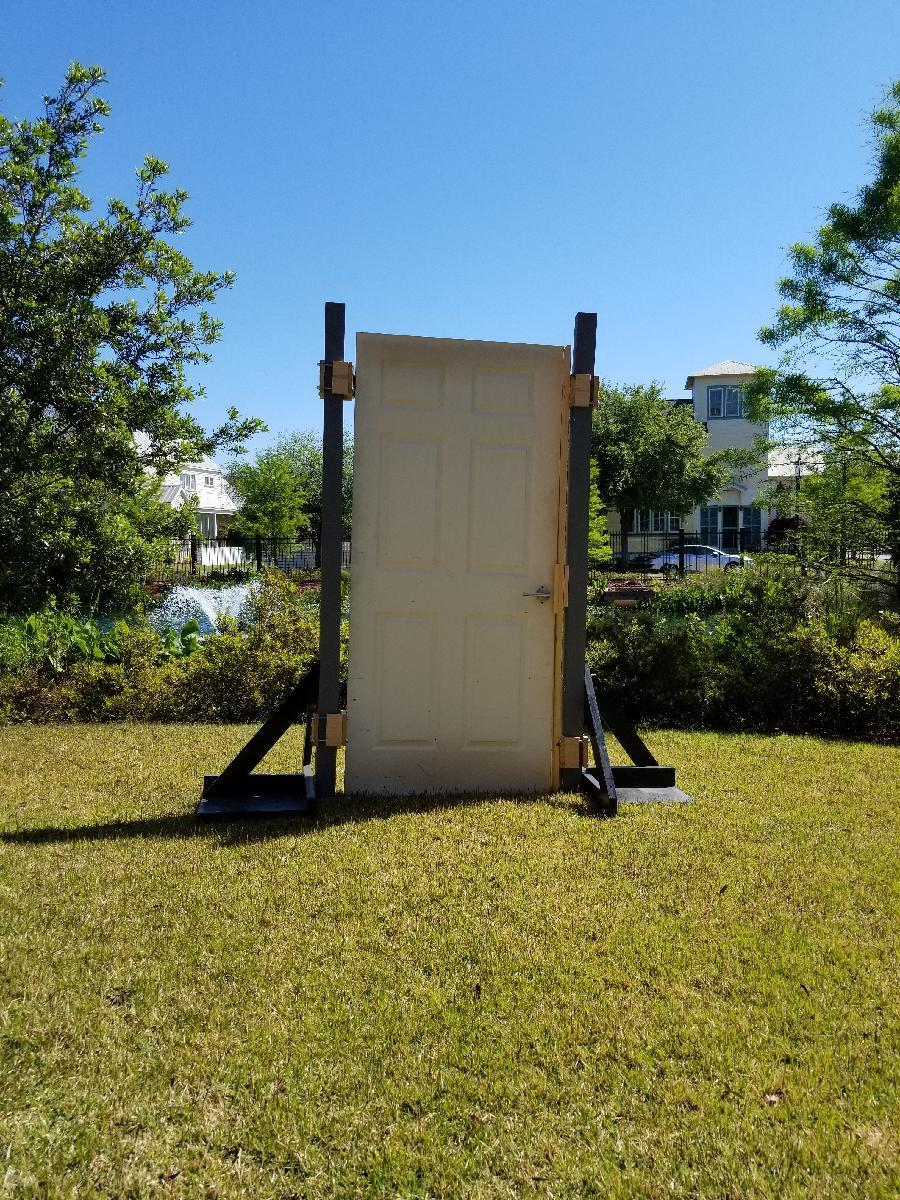door: (350, 333, 564, 801)
handle: (520, 584, 556, 606)
